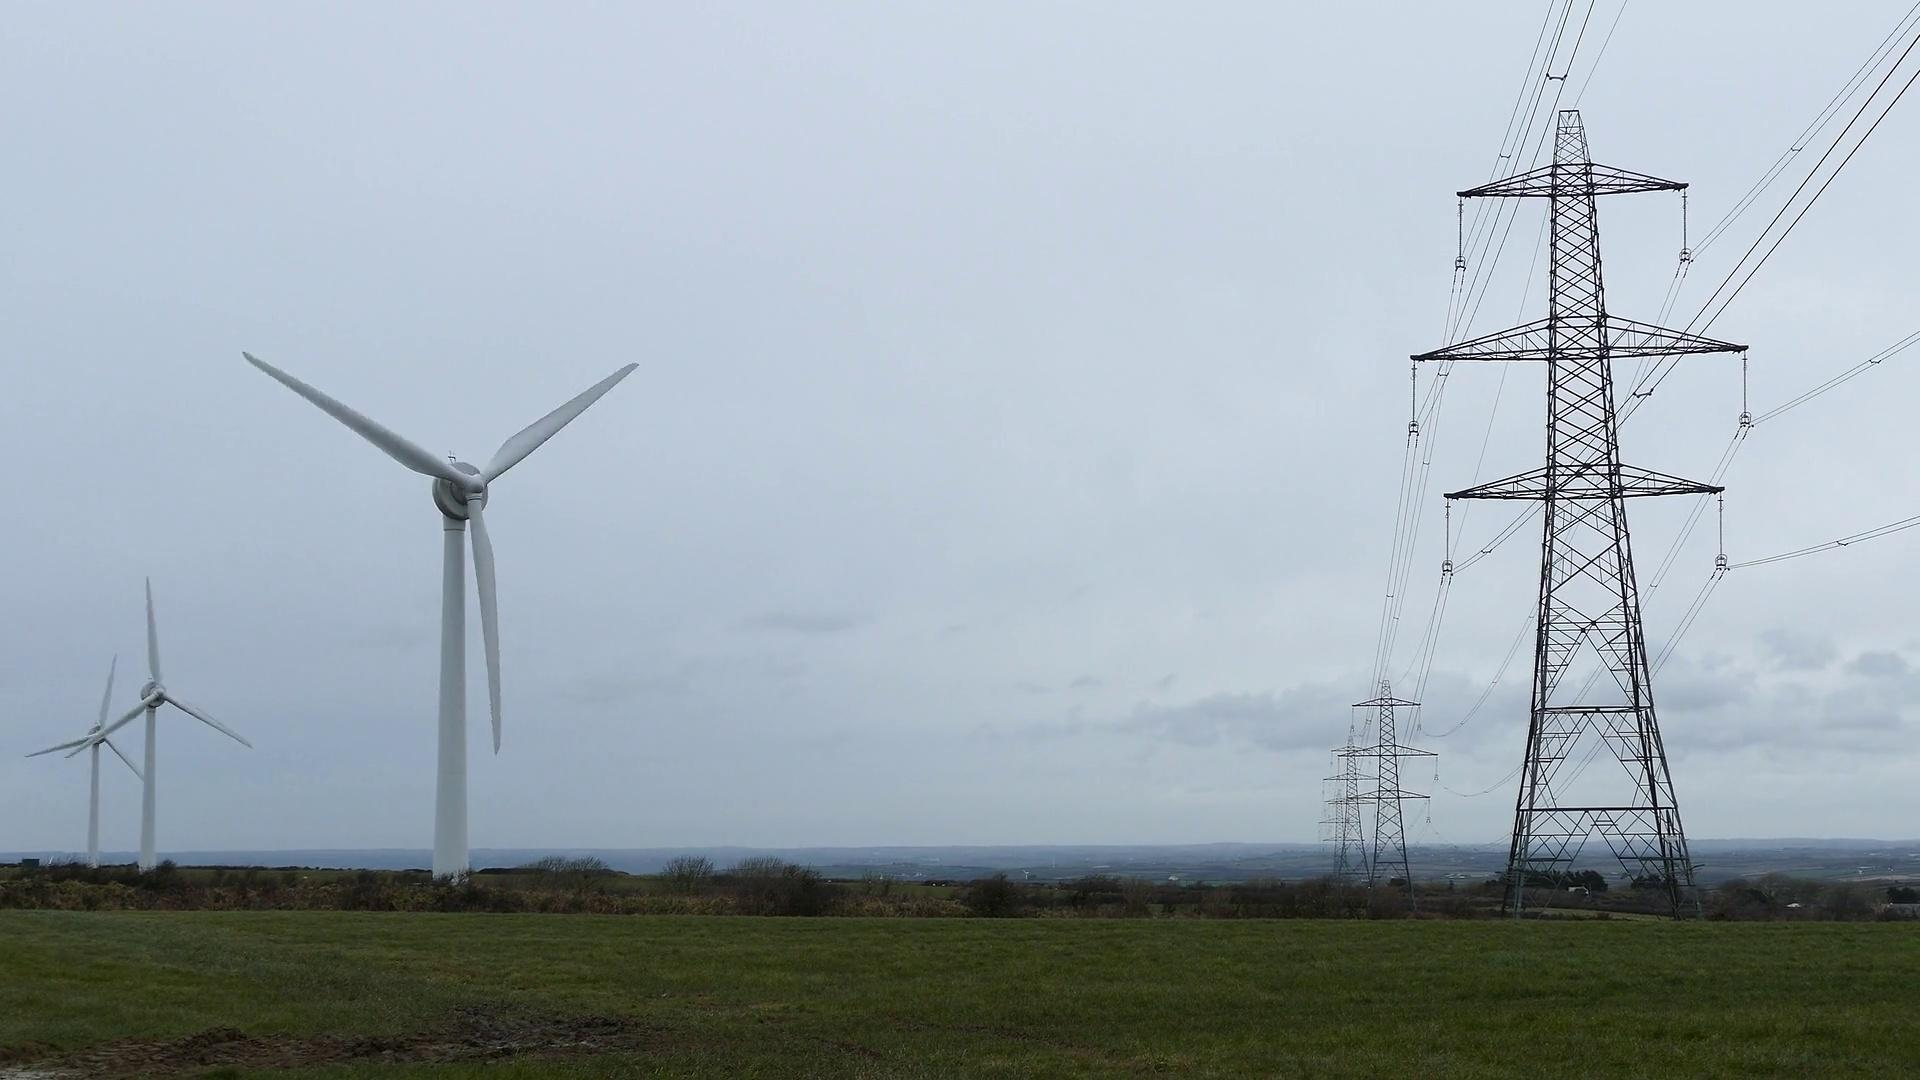cable tower: (1408, 109, 1751, 923), (1352, 680, 1441, 913), (1332, 733, 1375, 897), (1317, 796, 1356, 887)
turbine: (218, 175, 740, 949), (63, 579, 293, 918), (37, 633, 193, 887)
